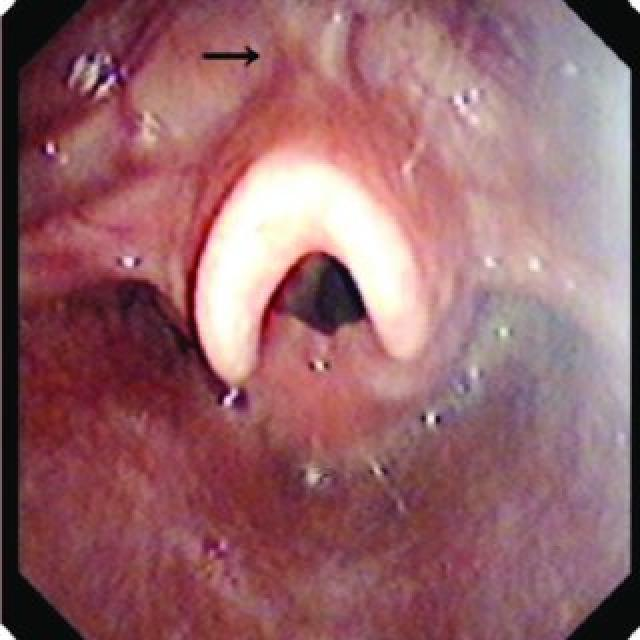arytenoid cartilagerotation: (253, 306, 396, 424)
epiglottisrotation: (186, 140, 451, 388)
larynxrotation: (294, 256, 368, 336)
